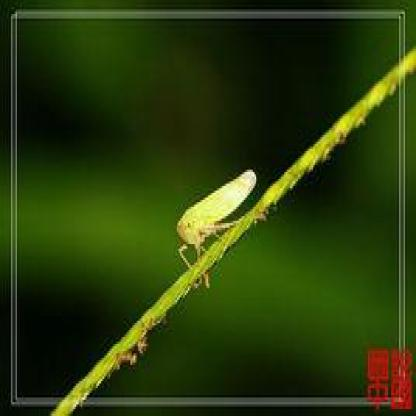Green-Leafhopper: (173, 170, 265, 274)
